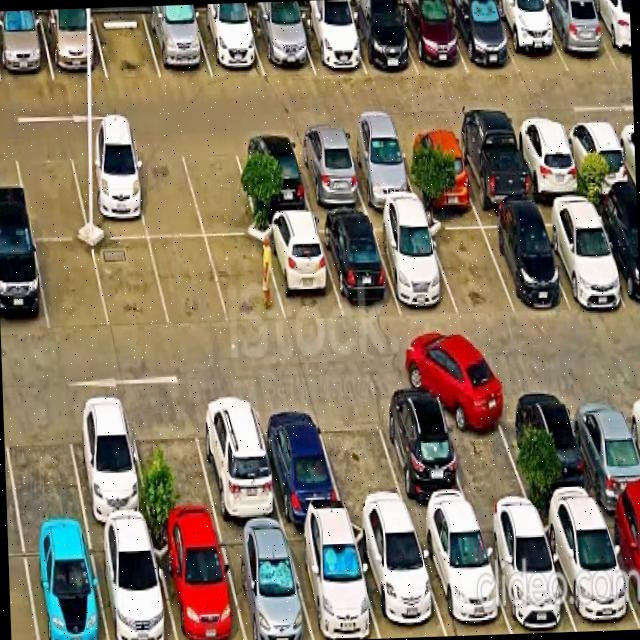empty: (439, 389, 534, 515), (314, 396, 410, 518), (128, 402, 219, 528), (3, 403, 86, 532), (424, 214, 514, 314), (179, 137, 259, 236), (128, 142, 204, 237), (13, 143, 88, 238), (149, 237, 228, 327), (92, 238, 169, 329), (206, 236, 285, 323), (34, 240, 109, 331), (92, 10, 160, 78)
occupied: (373, 392, 475, 519), (539, 509, 639, 631), (476, 515, 576, 633), (192, 395, 282, 525), (413, 517, 511, 636), (284, 522, 379, 640), (350, 522, 446, 638), (253, 399, 344, 521), (512, 386, 600, 512), (64, 402, 151, 528), (217, 527, 313, 640), (152, 527, 245, 640), (89, 529, 176, 640), (536, 203, 628, 307), (22, 531, 107, 640), (565, 385, 640, 508), (478, 212, 568, 311), (260, 218, 343, 323), (370, 216, 458, 314), (316, 216, 400, 317), (68, 143, 147, 238), (451, 126, 533, 207), (234, 135, 312, 217), (290, 134, 367, 212), (341, 132, 419, 208), (397, 129, 475, 205), (490, 0, 568, 75), (510, 122, 585, 199), (536, 0, 617, 71), (561, 120, 635, 195), (396, 0, 468, 75), (445, 0, 518, 73), (591, 203, 640, 310), (345, 5, 417, 74), (600, 505, 640, 629), (193, 10, 265, 77), (0, 236, 48, 334), (39, 11, 107, 80), (143, 10, 212, 78), (294, 9, 366, 74), (248, 11, 314, 75), (0, 13, 53, 81), (587, 0, 631, 69)
